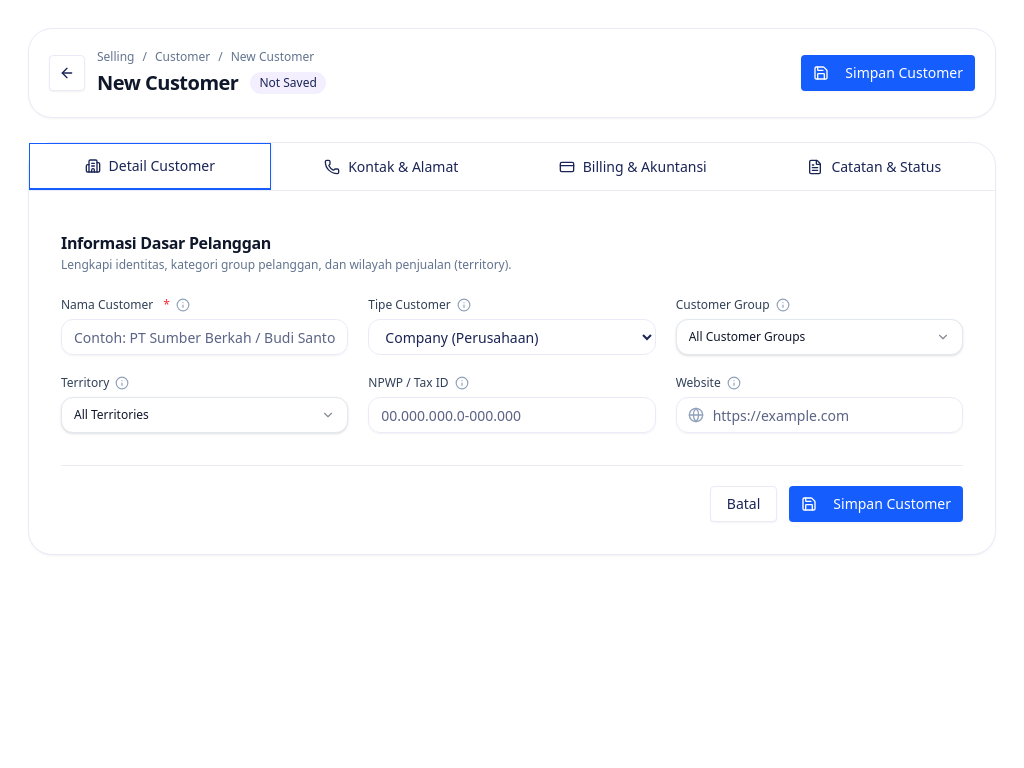
Scenario: Customer Module - CustomerListPage and CustomerFormPage › renders new Customer form, fetches customer groups, territories, and currencies, and submits
Later steps or results of the test are not shown.
expect the heading "New Customer" is shown: met, box [97, 69, 238, 97]
expect the tab "Detail Customer" is shown: met, box [29, 143, 270, 190]
Note: Fill customer name
Type "PT Solusi Prima Nusantara" into the field with placeholder "Contoh: PT Sumber Berkah / Budi Santoso". click: (205, 337)
box: [61, 319, 348, 355]
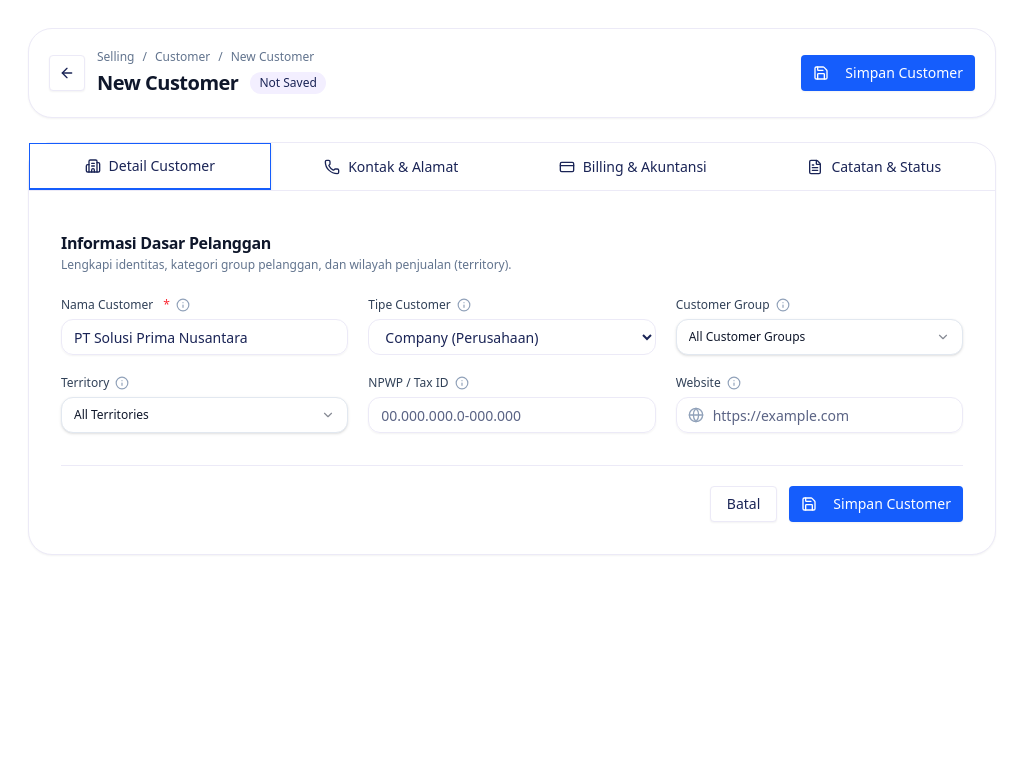
Note: Open Billing tab to check currency searchable select
Click the tab "Billing & Akuntansi". click: (633, 166)
box: [512, 144, 754, 190]
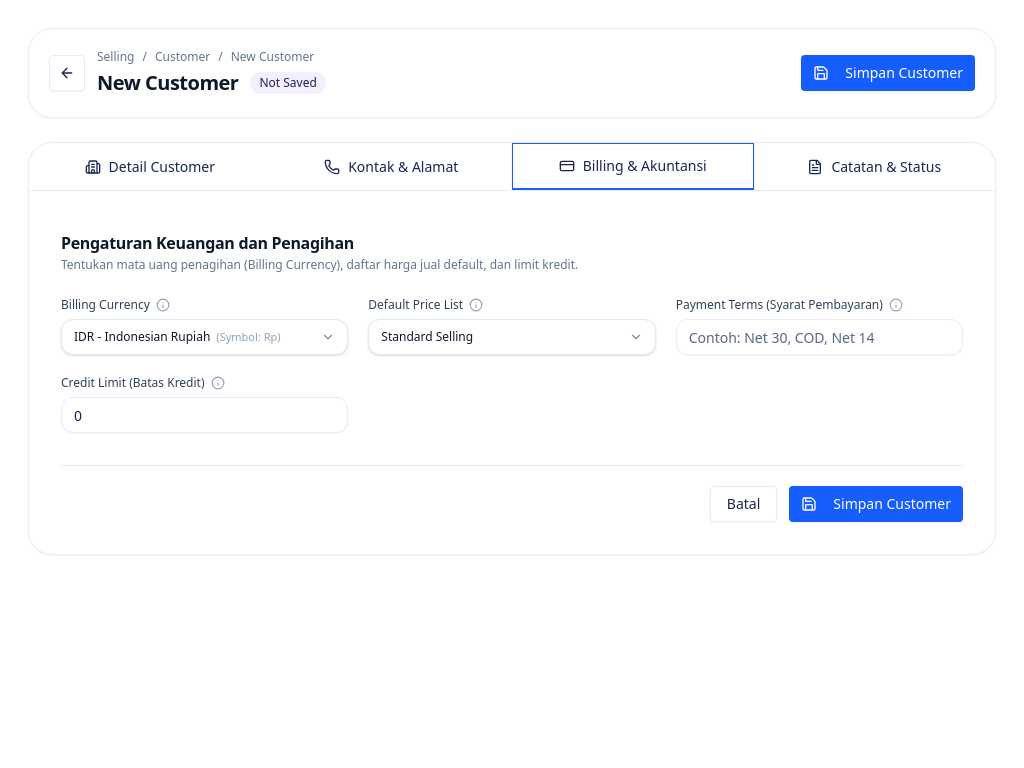
expect the text "Billing Currency" is shown: met, box [61, 297, 150, 313]
expect the text "Default Price List" is shown: met, box [368, 297, 463, 313]
expect the text "Credit Limit (Batas Kredit)" is shown: met, box [61, 375, 204, 391]
